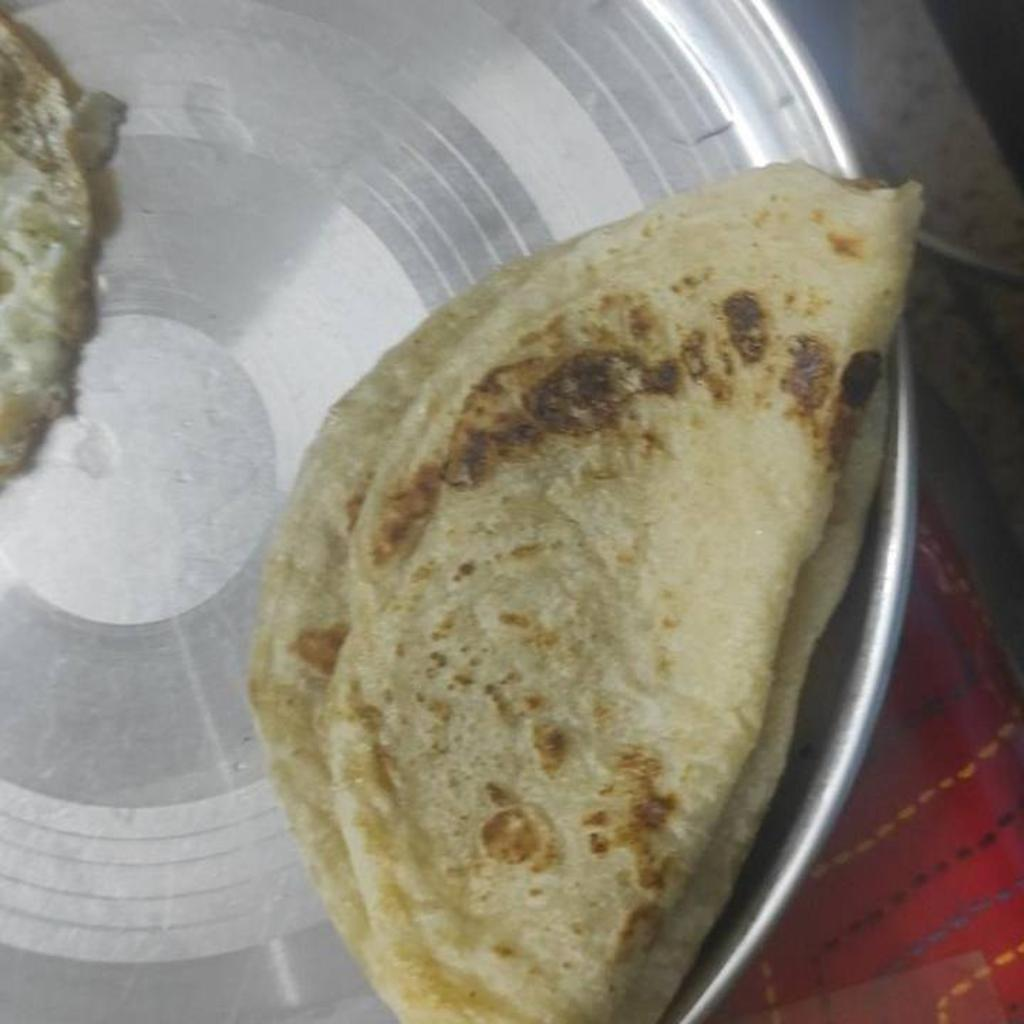egg-poached: (0, 6, 125, 488)
ruti: (252, 164, 922, 1023)
